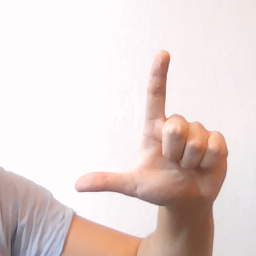L: (70, 47, 230, 217)
